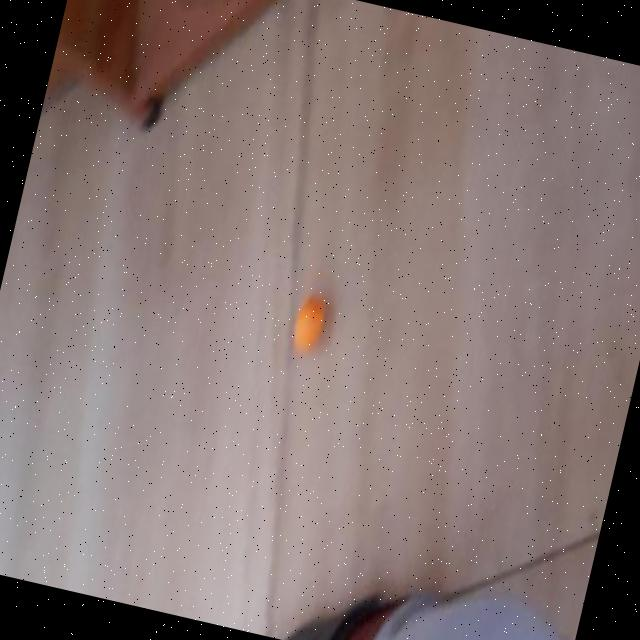ping-pong-ball: (287, 294, 331, 358)
